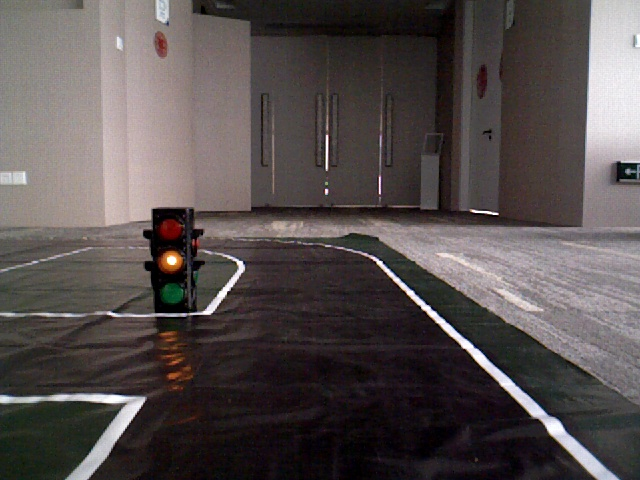yellow: (152, 209, 191, 307)
